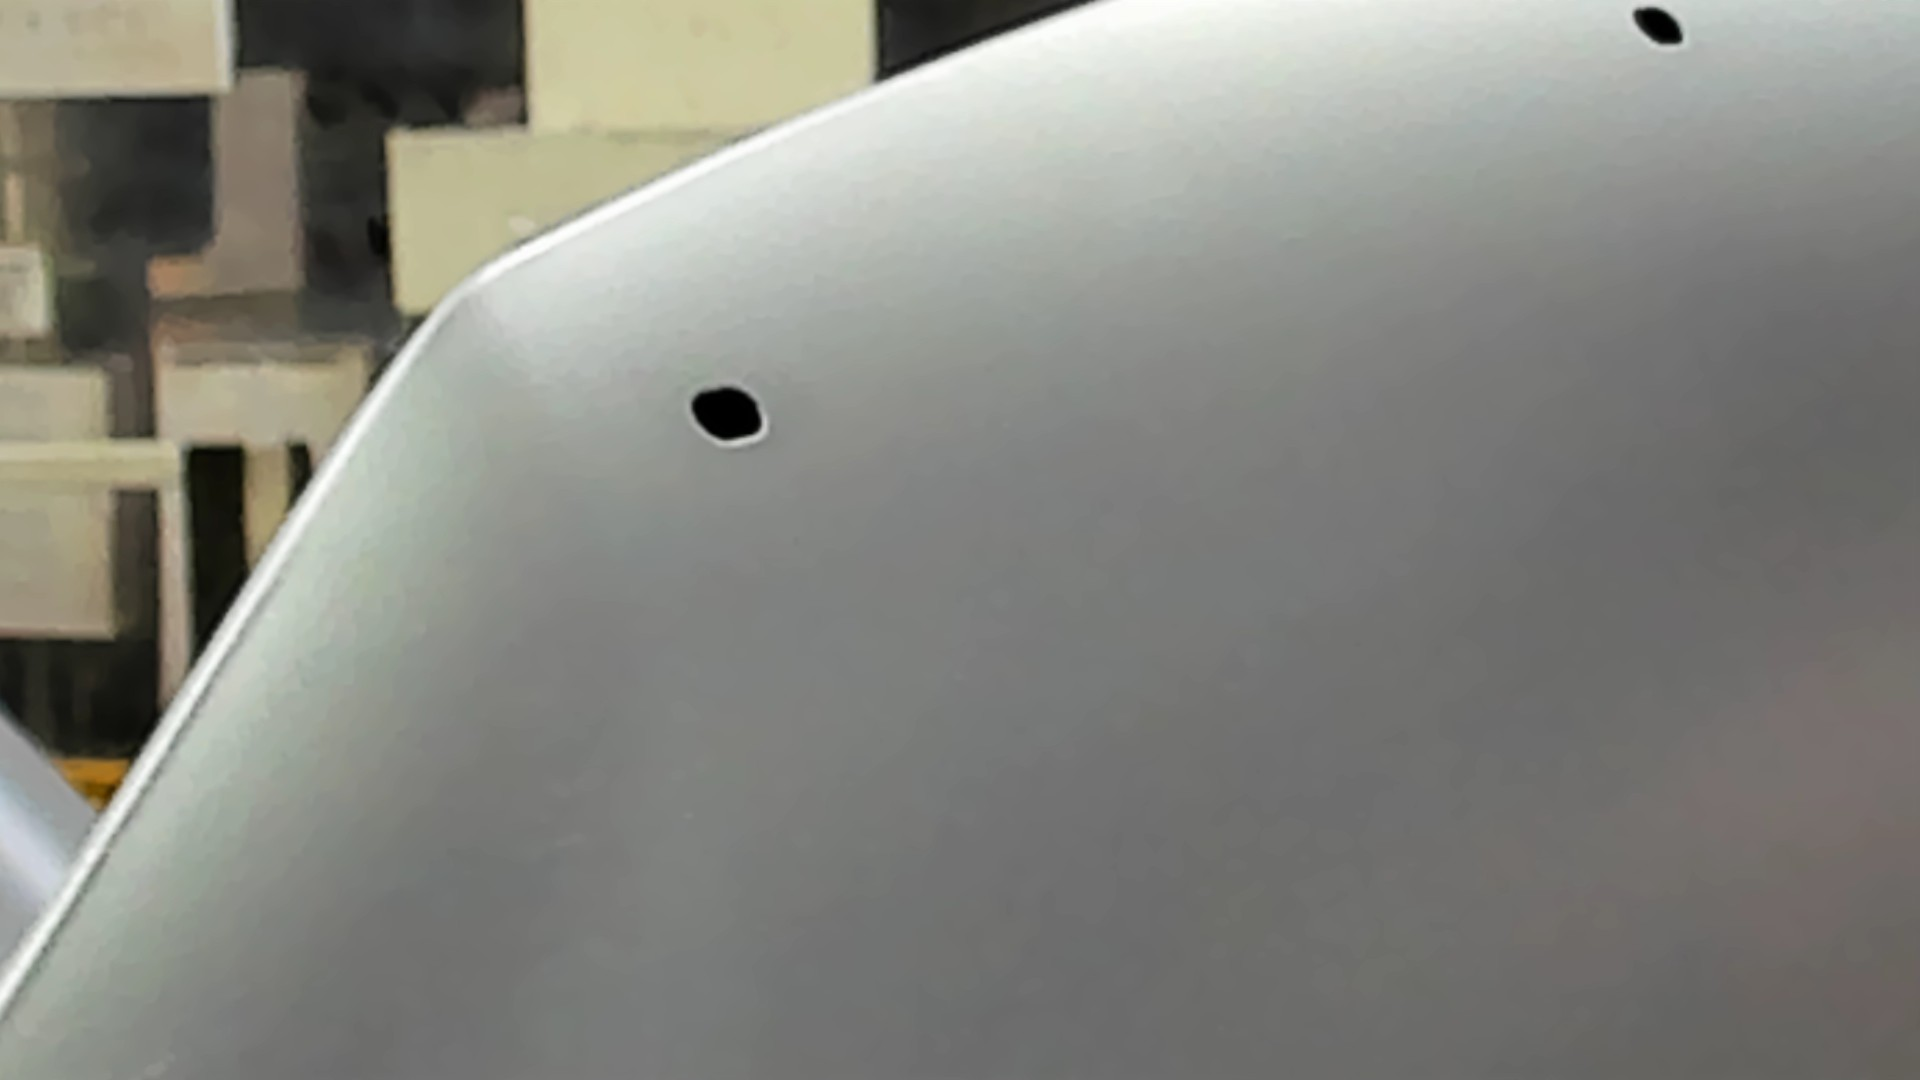amorfo: (680, 375, 774, 451), (1619, 4, 1697, 63)
